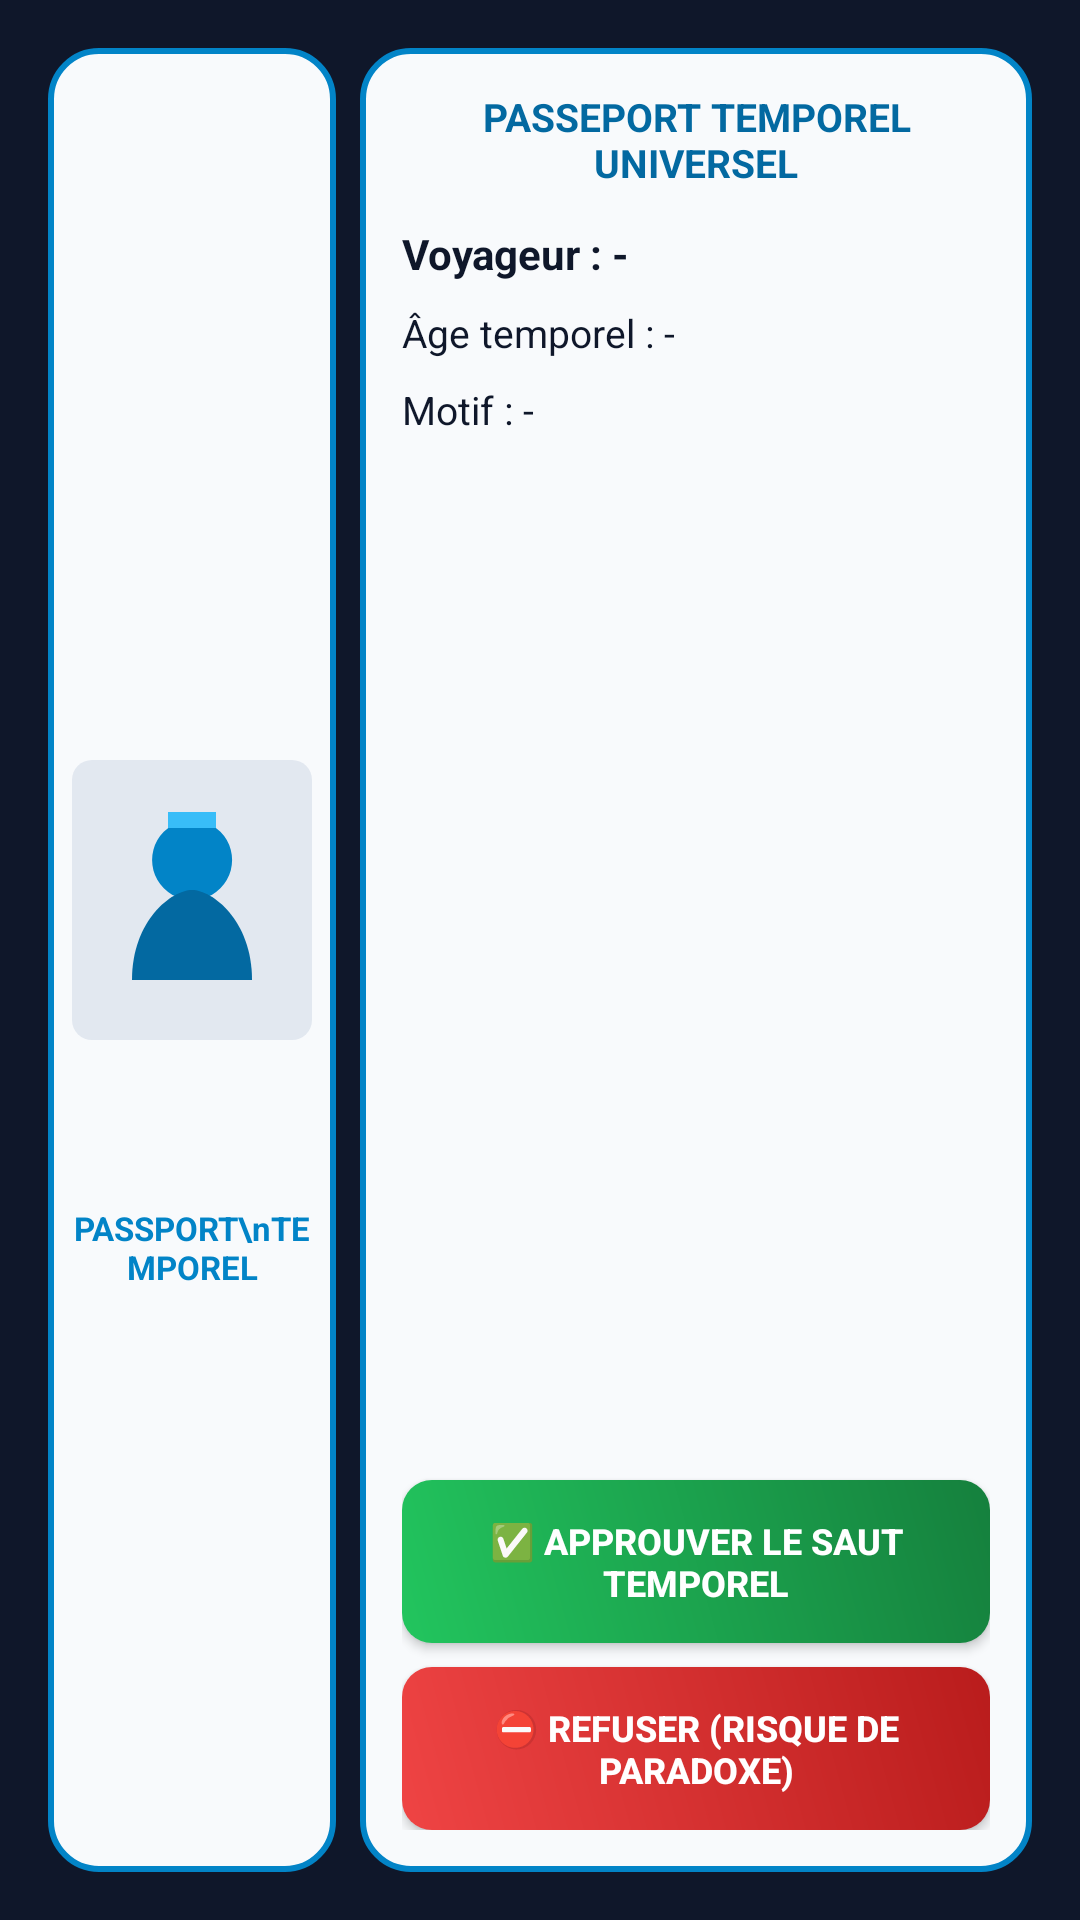

Point at icon controls on the screen. Image size 1080*1920, points as (x=x, y=y).
Photo d'identité temporelle du voyageur: (x=192, y=896)
